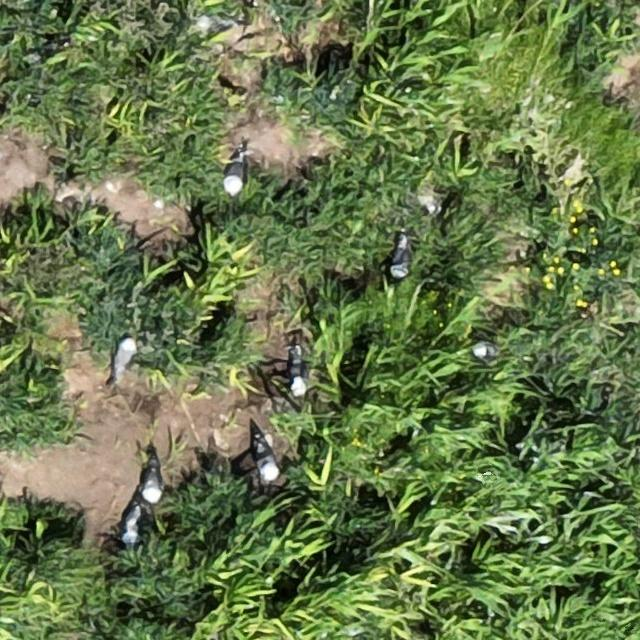umineko: (288, 346, 312, 397), (141, 464, 160, 504), (256, 445, 276, 483), (115, 336, 135, 372), (392, 239, 410, 279), (223, 160, 243, 194), (472, 340, 516, 355)
